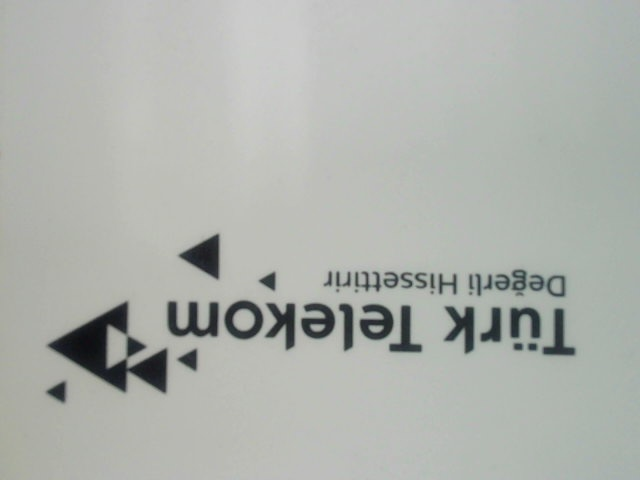AQ_TURKTelekom: (32, 234, 579, 402)
